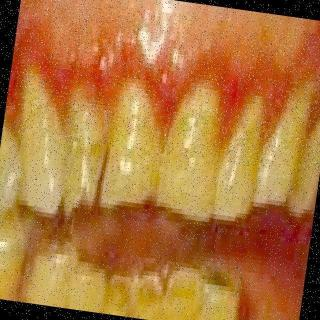Gum Swelling: (18, 36, 312, 114)
